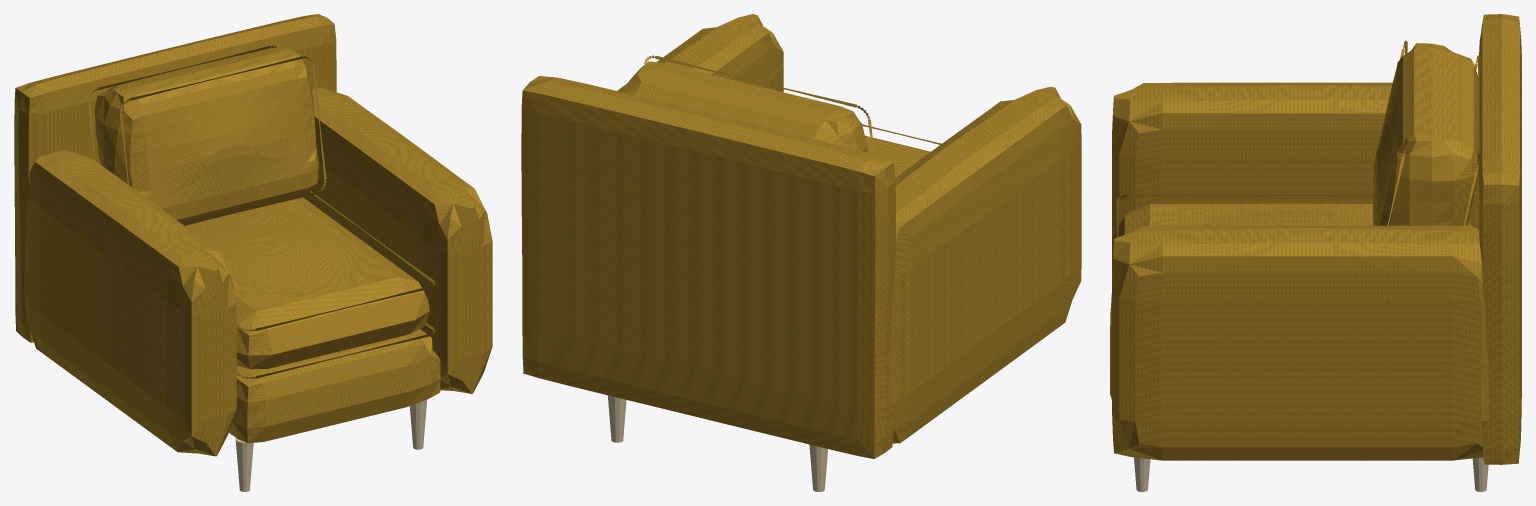
File: ATL-ARM-std.glb
3 views of the same model, side by side, from view 1: azimuth 30°, elevation 25°; view 2: azimuth 150°, elevation 25°; view 3: azimuth 270°, elevation 25° (orthographic). The views are drawn at different scales.
Parts seen in each view (by area): view 1: arm-pad-l:fabric:eyJwcmVzZXQiOiJ0d2lsbCIsIndhcnAiOiJtdXN0YXJ, back-1:fabric:eyJwcmVzZXQiOiJ0d2lsbCIsIndhcnAiOiJtdXN0YXJkIi, arm-pad-r:fabric:eyJwcmVzZXQiOiJ0d2lsbCIsIndhcnAiOiJtdXN0YXJ, seat:fabric:eyJwcmVzZXQiOiJ0d2lsbCIsIndhcnAiOiJtdXN0YXJkIiwi, back-pad:fabric:eyJwcmVzZXQiOiJ0d2lsbCIsIndhcnAiOiJtdXN0YXJk, deck:fabric:eyJwcmVzZXQiOiJ0d2lsbCIsIndhcnAiOiJtdXN0YXJkIiwi, back-1:piping:pbr, seat:piping:pbr, leg-fl:pbr, leg-fr:pbr; view 2: back-pad:fabric:eyJwcmVzZXQiOiJ0d2lsbCIsIndhcnAiOiJtdXN0YXJk, arm-pad-l:fabric:eyJwcmVzZXQiOiJ0d2lsbCIsIndhcnAiOiJtdXN0YXJ, back-1:fabric:eyJwcmVzZXQiOiJ0d2lsbCIsIndhcnAiOiJtdXN0YXJkIi, arm-pad-r:fabric:eyJwcmVzZXQiOiJ0d2lsbCIsIndhcnAiOiJtdXN0YXJ, seat:fabric:eyJwcmVzZXQiOiJ0d2lsbCIsIndhcnAiOiJtdXN0YXJkIiwi, back-1:piping:pbr, leg-br:pbr, leg-bl:pbr; view 3: arm-pad-r:fabric:eyJwcmVzZXQiOiJ0d2lsbCIsIndhcnAiOiJtdXN0YXJ, arm-pad-l:fabric:eyJwcmVzZXQiOiJ0d2lsbCIsIndhcnAiOiJtdXN0YXJ, back-pad:fabric:eyJwcmVzZXQiOiJ0d2lsbCIsIndhcnAiOiJtdXN0YXJk, back-1:fabric:eyJwcmVzZXQiOiJ0d2lsbCIsIndhcnAiOiJtdXN0YXJkIi, seat:fabric:eyJwcmVzZXQiOiJ0d2lsbCIsIndhcnAiOiJtdXN0YXJkIiwi, back-1:piping:pbr, seat:piping:pbr, leg-fr:pbr, leg-br:pbr.
Part boxes in pixels (left/top/right/bottom): arm-pad-l:fabric:eyJwcmVzZXQiOiJ0d2lsbCIsIndhcnAiOiJtdXN0YXJ: left=24, top=150, right=236, bottom=456; back-1:fabric:eyJwcmVzZXQiOiJ0d2lsbCIsIndhcnAiOiJtdXN0YXJkIi: left=94, top=47, right=318, bottom=224; arm-pad-r:fabric:eyJwcmVzZXQiOiJ0d2lsbCIsIndhcnAiOiJtdXN0YXJ: left=303, top=87, right=492, bottom=393; seat:fabric:eyJwcmVzZXQiOiJ0d2lsbCIsIndhcnAiOiJtdXN0YXJkIiwi: left=185, top=197, right=429, bottom=369; back-pad:fabric:eyJwcmVzZXQiOiJ0d2lsbCIsIndhcnAiOiJtdXN0YXJk: left=14, top=14, right=336, bottom=342; deck:fabric:eyJwcmVzZXQiOiJ0d2lsbCIsIndhcnAiOiJtdXN0YXJkIiwi: left=229, top=329, right=440, bottom=443; back-1:piping:pbr: left=88, top=45, right=326, bottom=225; seat:piping:pbr: left=236, top=191, right=435, bottom=379; leg-fl:pbr: left=235, top=438, right=253, bottom=491; leg-fr:pbr: left=409, top=399, right=427, bottom=449; back-pad:fabric:eyJwcmVzZXQiOiJ0d2lsbCIsIndhcnAiOiJtdXN0YXJk: left=521, top=76, right=895, bottom=458; arm-pad-l:fabric:eyJwcmVzZXQiOiJ0d2lsbCIsIndhcnAiOiJtdXN0YXJ: left=889, top=86, right=1081, bottom=443; back-1:fabric:eyJwcmVzZXQiOiJ0d2lsbCIsIndhcnAiOiJtdXN0YXJkIi: left=622, top=61, right=867, bottom=152; arm-pad-r:fabric:eyJwcmVzZXQiOiJ0d2lsbCIsIndhcnAiOiJtdXN0YXJ: left=617, top=14, right=783, bottom=92; seat:fabric:eyJwcmVzZXQiOiJ0d2lsbCIsIndhcnAiOiJtdXN0YXJkIiwi: left=865, top=135, right=930, bottom=177; back-1:piping:pbr: left=644, top=55, right=874, bottom=154; leg-br:pbr: left=607, top=395, right=626, bottom=442; leg-bl:pbr: left=809, top=444, right=827, bottom=491; arm-pad-r:fabric:eyJwcmVzZXQiOiJ0d2lsbCIsIndhcnAiOiJtdXN0YXJ: left=1112, top=225, right=1488, bottom=460; arm-pad-l:fabric:eyJwcmVzZXQiOiJ0d2lsbCIsIndhcnAiOiJtdXN0YXJ: left=1112, top=82, right=1478, bottom=272; back-pad:fabric:eyJwcmVzZXQiOiJ0d2lsbCIsIndhcnAiOiJtdXN0YXJk: left=1479, top=14, right=1521, bottom=464; back-1:fabric:eyJwcmVzZXQiOiJ0d2lsbCIsIndhcnAiOiJtdXN0YXJkIi: left=1373, top=43, right=1478, bottom=225; seat:fabric:eyJwcmVzZXQiOiJ0d2lsbCIsIndhcnAiOiJtdXN0YXJkIiwi: left=1112, top=203, right=1471, bottom=257; back-1:piping:pbr: left=1372, top=40, right=1480, bottom=225; seat:piping:pbr: left=1116, top=194, right=1474, bottom=237; leg-fr:pbr: left=1134, top=457, right=1150, bottom=491; leg-br:pbr: left=1472, top=457, right=1488, bottom=491.
Size of the model in its own units: 0.85 by 0.8 by 0.85.
Materials: 12 (6 with a texture image).
